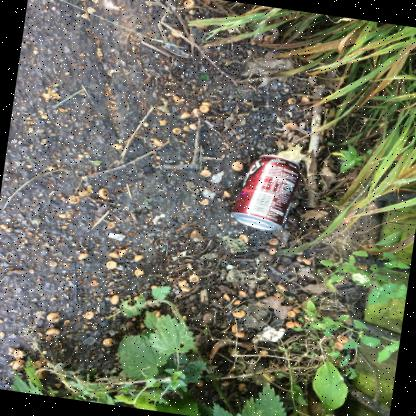Broken glass: (163, 40, 189, 57), (81, 337, 94, 345), (199, 73, 208, 81)
Cigarette: (203, 119, 214, 127)
Drink can: (230, 154, 301, 230)
Unlabeled litter: (251, 326, 285, 343), (108, 232, 125, 240)
